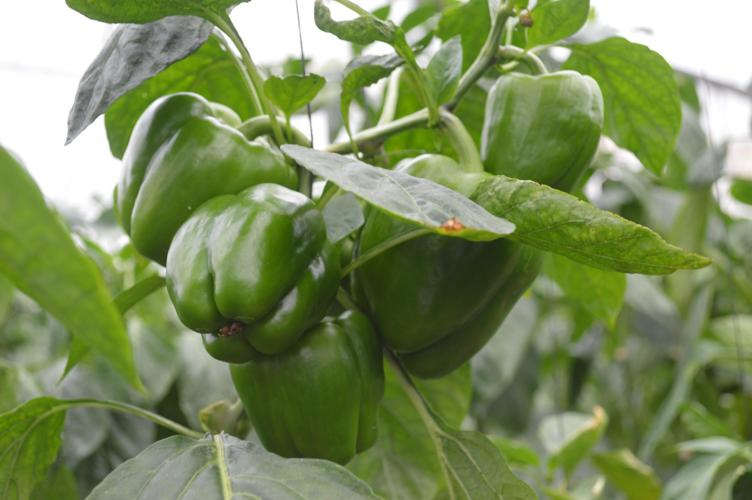BellPepper: (340, 144, 529, 380), (84, 90, 300, 258), (153, 208, 344, 362), (464, 61, 619, 203), (233, 332, 402, 461)
